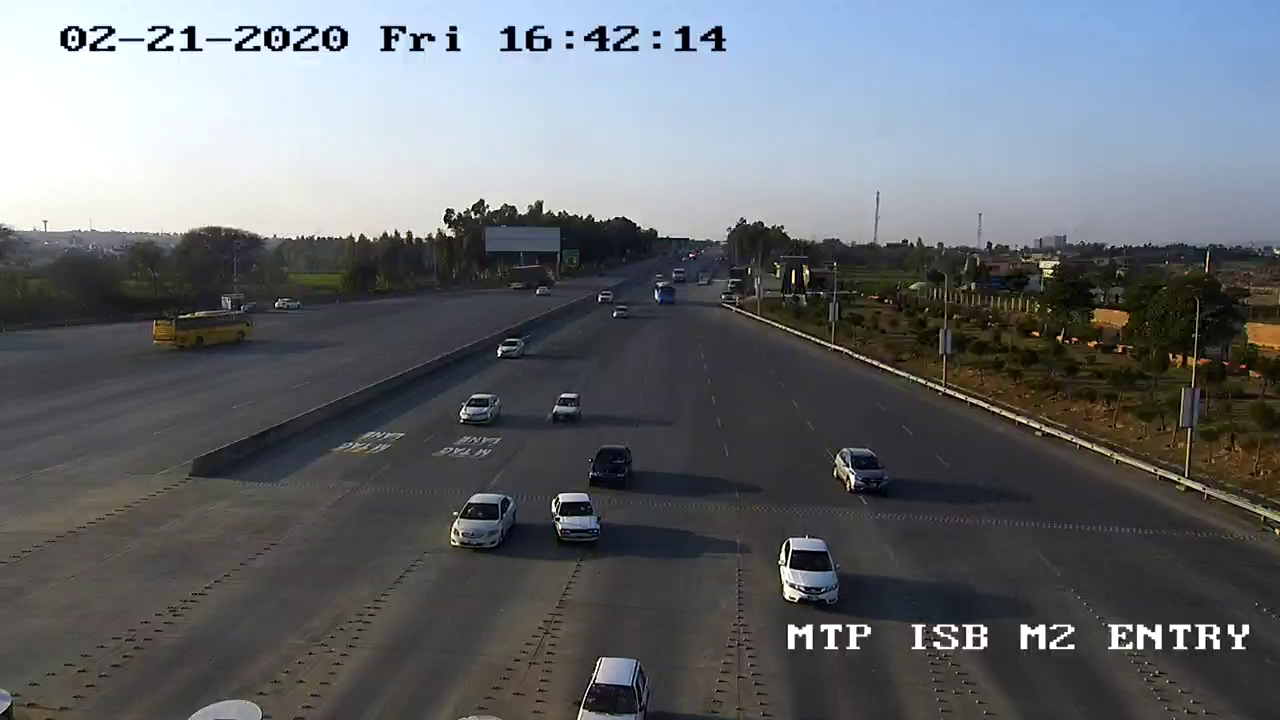f1: (768, 526, 851, 620), (437, 486, 525, 558), (825, 440, 895, 506), (537, 486, 606, 552), (574, 441, 645, 498), (454, 384, 503, 437), (546, 386, 591, 434)
